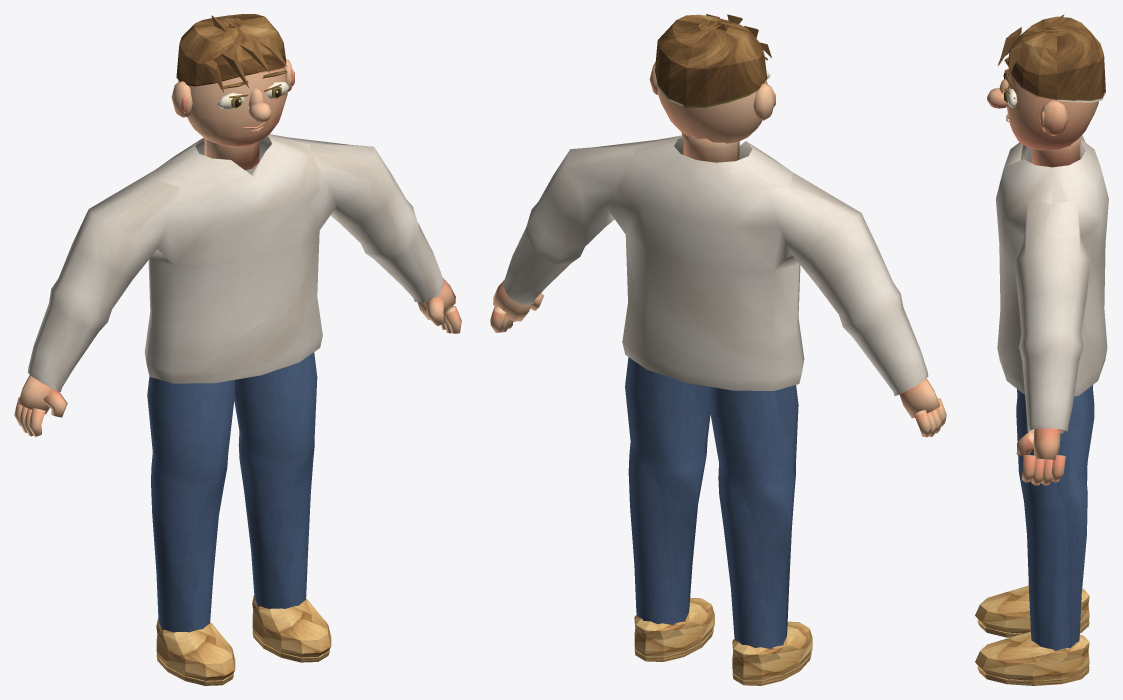
File: peasant_youth.glb
The picture shows the model from 3 angles, left to right: view 1: azimuth 30°, elevation 25°; view 2: azimuth 150°, elevation 25°; view 3: azimuth 270°, elevation 25°; orthographic projection. The views are drawn at different scales.
Visible parts, largest first — view 1: PeasantYouth_Mesh; view 2: PeasantYouth_Mesh; view 3: PeasantYouth_Mesh.
Part boxes in pixels (x1,y1,x2,y2): PeasantYouth_Mesh: (14,14,461,685); PeasantYouth_Mesh: (490,14,946,685); PeasantYouth_Mesh: (975,14,1108,685).
Size of the model in its own units: 1.32 by 1.82 by 0.353.
Materials: 1 (1 with a texture image).
